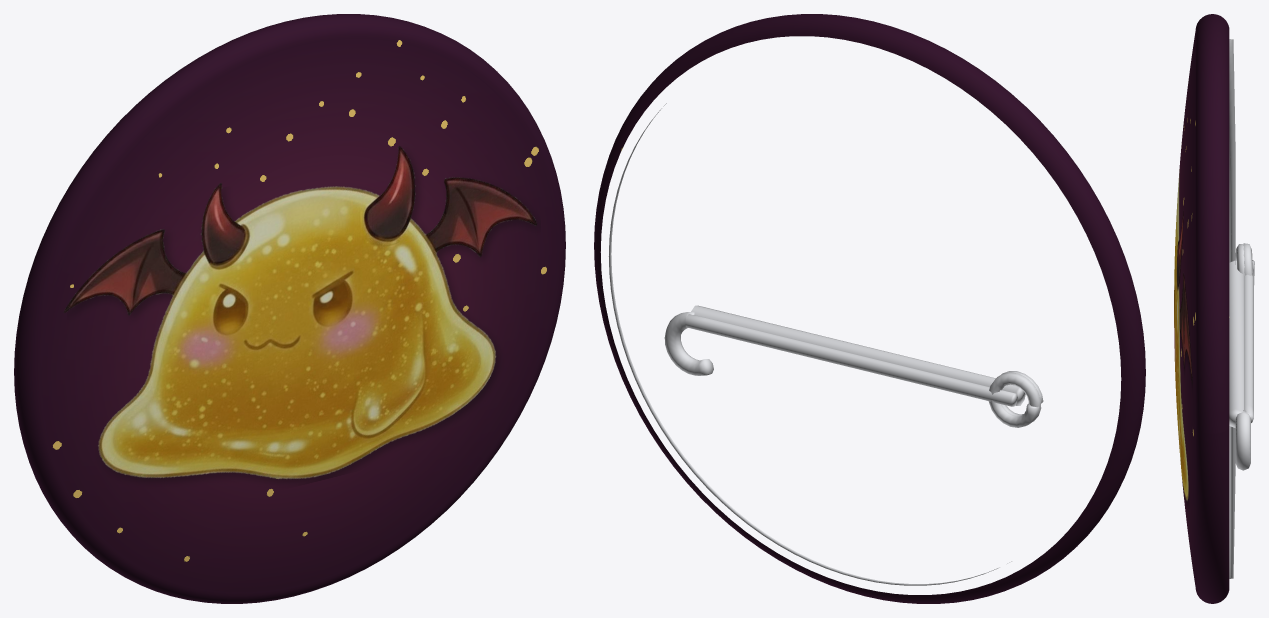
The model's file is badge_golddevil.glb.
The picture shows the model from 3 angles, left to right: view 1: azimuth 30°, elevation 25°; view 2: azimuth 150°, elevation 25°; view 3: azimuth 270°, elevation 25°; orthographic projection. The views are drawn at different scales.
Visible parts, largest first — view 1: Front; view 2: Front, Back; view 3: Front, Back.
Part boxes in pixels (x1=…): Front: x1=14, y1=14, x2=565, y2=603; Front: x1=594, y1=14, x2=1145, y2=603; Back: x1=608, y1=103, x2=1043, y2=585; Front: x1=1174, y1=14, x2=1229, y2=603; Back: x1=1229, y1=39, x2=1254, y2=578.
Bounding box in the file's own units: 0.0605 × 0.0605 × 0.00829.
Materials: 3 (1 with a texture image).
